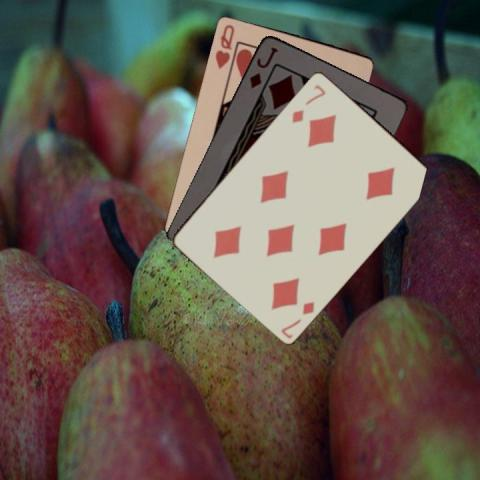7d: (288, 81, 326, 125), (278, 298, 316, 340)
Jd: (246, 44, 280, 90)
Qh: (212, 21, 235, 70)
